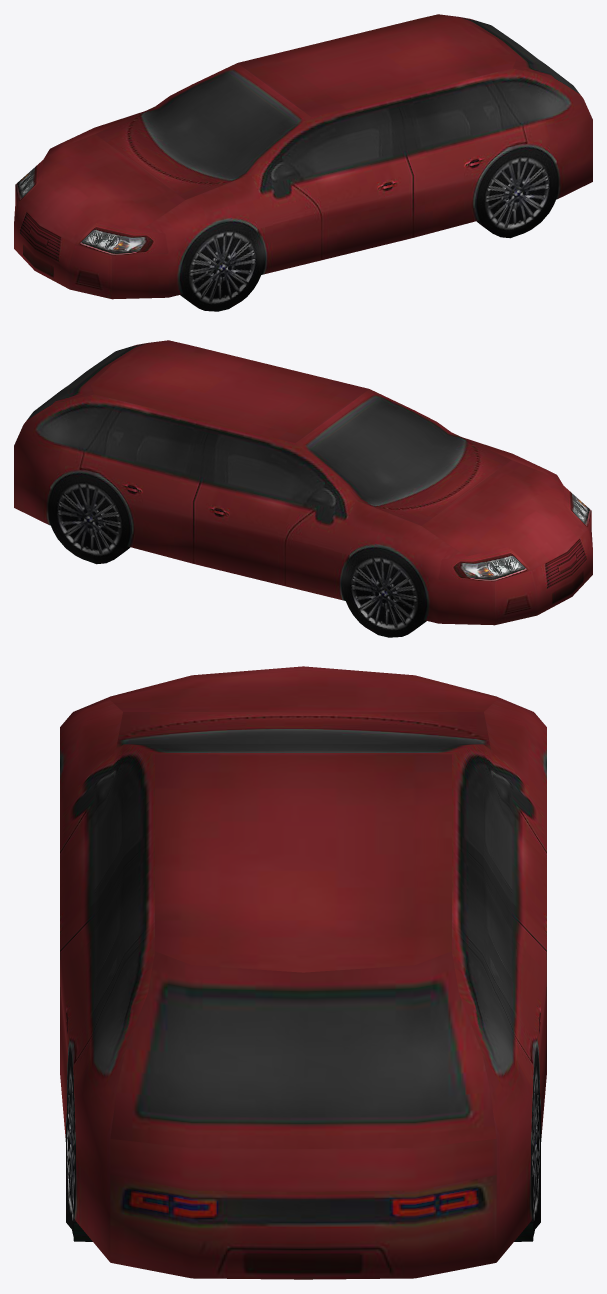
The model's file is CarRed.gltf.
3 views of the same model, one above another, from view 1: azimuth 30°, elevation 25°; view 2: azimuth 150°, elevation 25°; view 3: azimuth 270°, elevation 25° (orthographic). The views are drawn at different scales.
Visible parts, largest first — view 1: CarRed; view 2: CarRed; view 3: CarRed.
Part boxes in pixels (left/top/right/bottom): CarRed: left=14, top=14, right=592, bottom=311; CarRed: left=14, top=340, right=592, bottom=637; CarRed: left=60, top=666, right=546, bottom=1279.
Size of the model in its own units: 42.43 by 11.44 by 16.97.
1 material, 1 textured.
